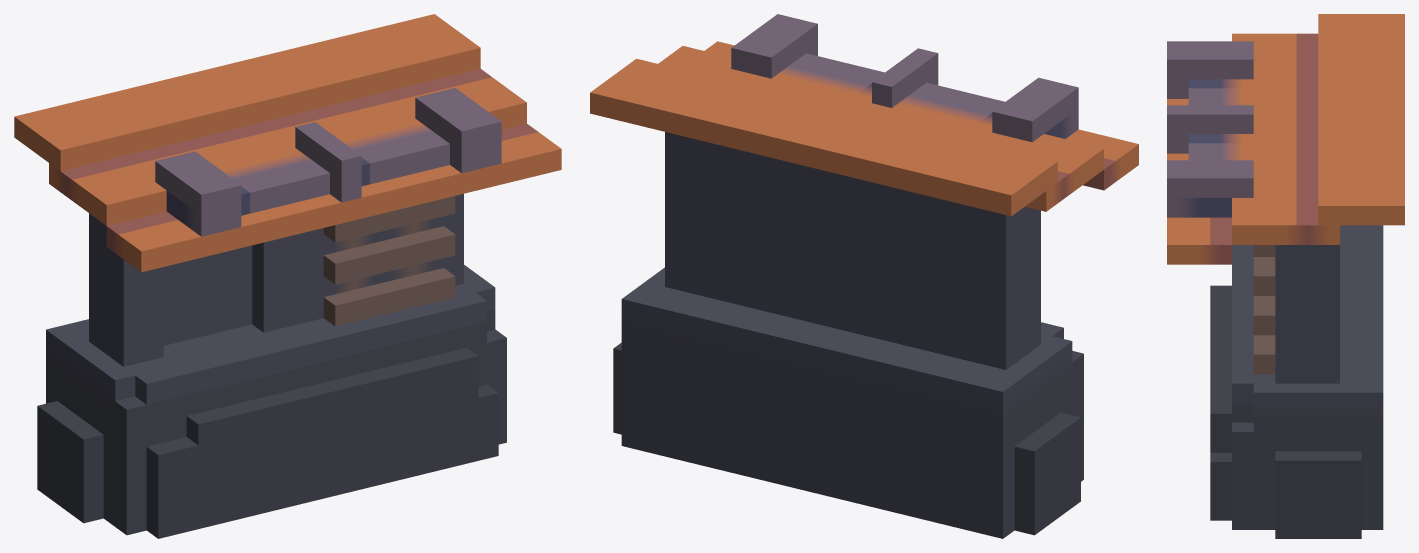
Rendered from Market_Stands-3.fbx.
The picture shows the model from 3 angles, left to right: view 1: azimuth 30°, elevation 25°; view 2: azimuth 150°, elevation 25°; view 3: azimuth 270°, elevation 25°; orthographic projection. The views are drawn at different scales.
Visible parts, largest first — view 1: Market_Stands_3; view 2: Market_Stands_3; view 3: Market_Stands_3.
Part boxes in pixels (x1,y1,x2,y2): Market_Stands_3: (14, 14, 561, 538); Market_Stands_3: (590, 14, 1138, 538); Market_Stands_3: (1167, 14, 1404, 538).
Size of the model in its own units: 210 by 170 by 110.
Materials: 1 (1 with a texture image).
